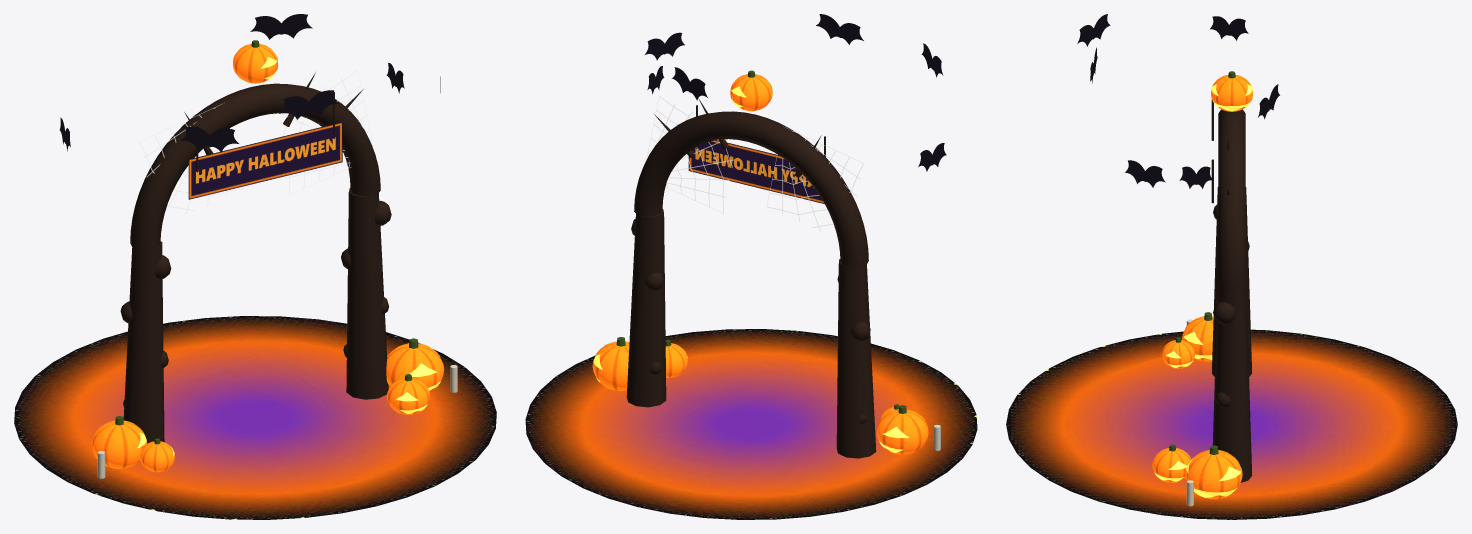
File: halloween-gate.glb
The picture shows the model from 3 angles, left to right: view 1: azimuth 30°, elevation 25°; view 2: azimuth 150°, elevation 25°; view 3: azimuth 270°, elevation 25°; orthographic projection. The views are drawn at different scales.
Size of the model in its own units: 3.8 by 3.36 by 3.8.
8 materials, 4 textured.
